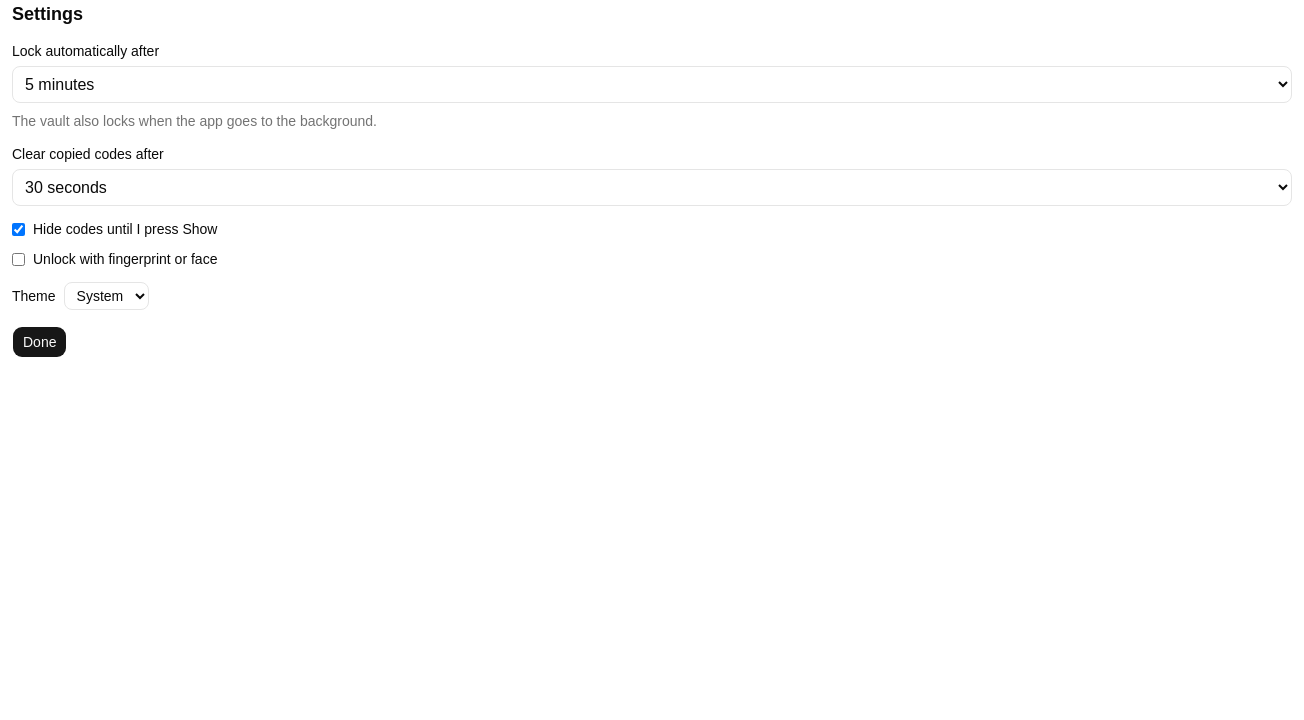
Scenario: SettingsScreen biometrics › says so when the password is wrong and keeps it off
Click the checkbox labelled "Unlock with fingerprint or face". click: point(18, 259)
box: [12,252,25,266]
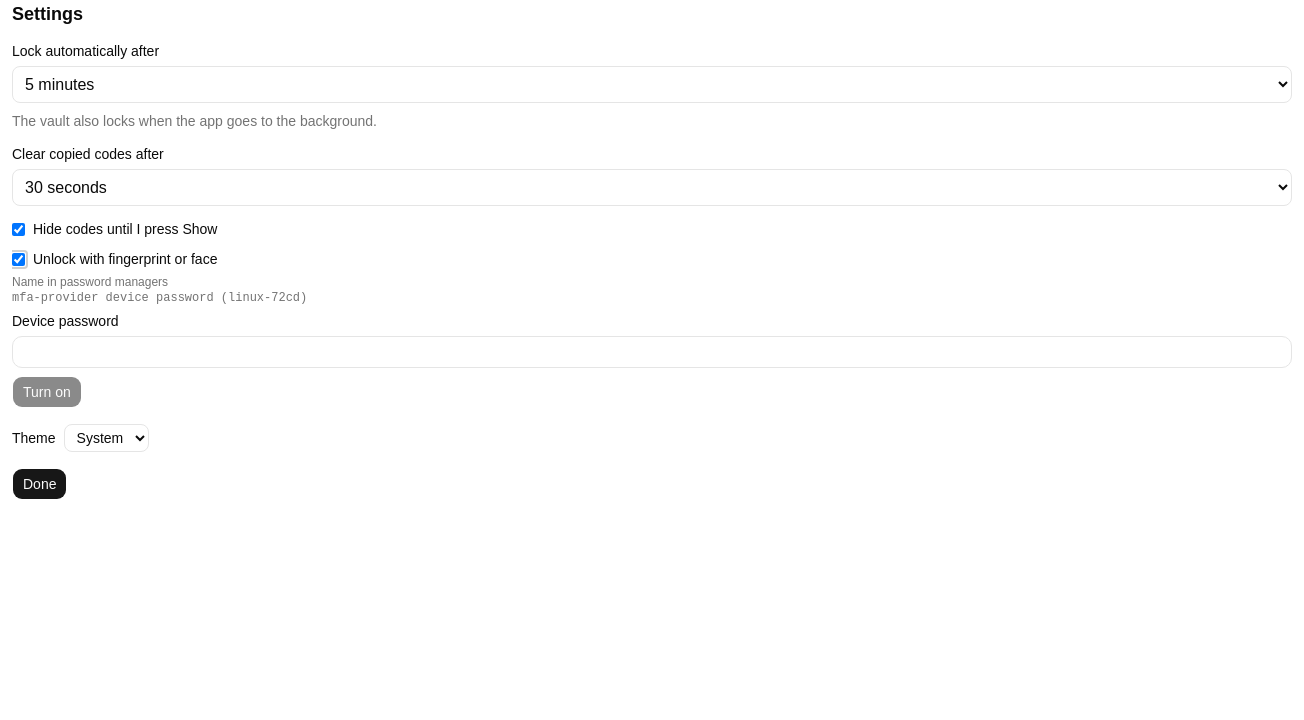
Type "nope" into the password field labelled "Device password". click: point(652, 352)
box: [12,336,1292,368]
Then press Enter
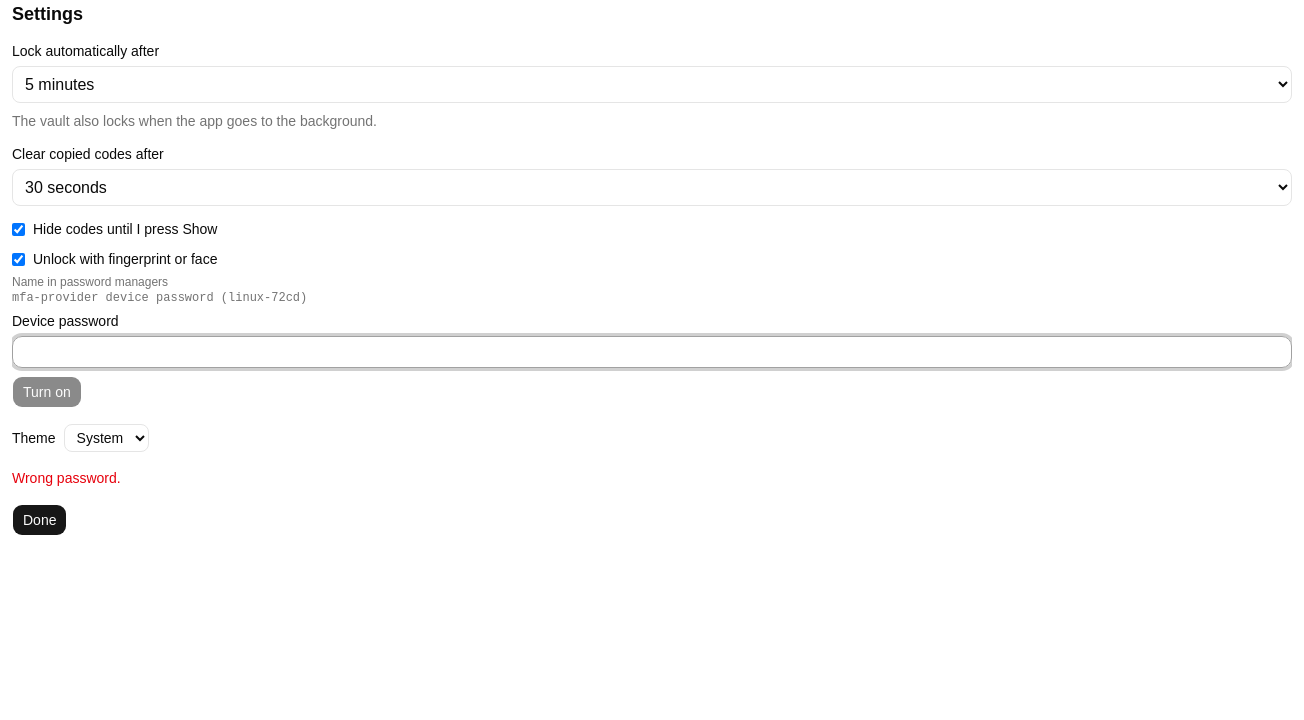
expect the password field labelled "Device password" is empty: met, box [12,336,1292,368]
expect the message reads "Wrong password.": met, box [12,470,121,486]
